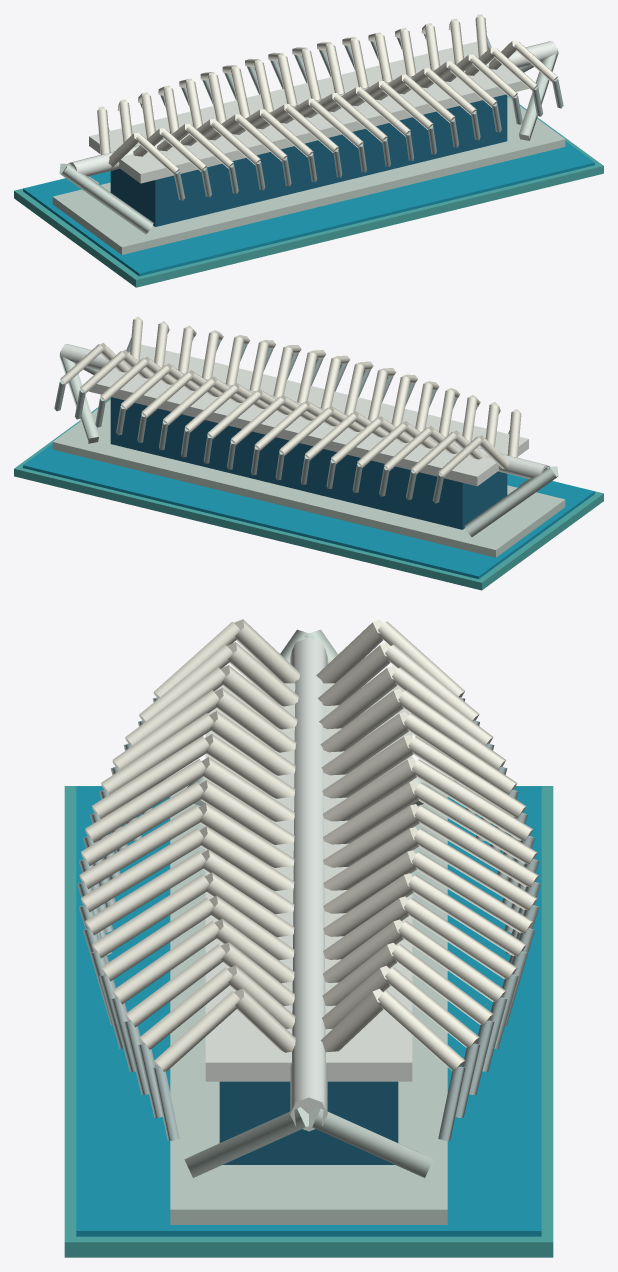
The model's file is museum-of-tomorrow.glb.
3 views of the same model, one above another, from view 1: azimuth 30°, elevation 25°; view 2: azimuth 150°, elevation 25°; view 3: azimuth 270°, elevation 25° (orthographic). The views are drawn at different scales.
Parts seen in each view (by area): view 1: canopy_E7EBDD, glazing_759EA0, water_6EAAAD, pier_D5DCCF, roof_E5E8DC, base_A9BFB3, canopy_CEDACE, support_DDE5D8, spine_E3E9DD; view 2: canopy_E7EBDD, glazing_759EA0, water_6EAAAD, pier_D5DCCF, roof_E5E8DC, base_A9BFB3, canopy_CEDACE, support_DDE5D8, spine_E3E9DD; view 3: canopy_E7EBDD, water_6EAAAD, pier_D5DCCF, base_A9BFB3, roof_E5E8DC, spine_E3E9DD, canopy_CEDACE, glazing_759EA0, support_DDE5D8.
Part boxes in pixels (<box>): canopy_E7EBDD: <box>97,14,557,174</box>; glazing_759EA0: <box>110,94,507,226</box>; water_6EAAAD: <box>23,141,594,276</box>; pier_D5DCCF: <box>52,97,565,254</box>; roof_E5E8DC: <box>89,41,528,183</box>; base_A9BFB3: <box>14,96,603,287</box>; canopy_CEDACE: <box>108,34,563,200</box>; support_DDE5D8: <box>59,48,558,234</box>; spine_E3E9DD: <box>69,41,557,176</box>; canopy_E7EBDD: <box>60,316,521,477</box>; glazing_759EA0: <box>110,397,507,529</box>; water_6EAAAD: <box>23,444,594,578</box>; pier_D5DCCF: <box>52,399,565,557</box>; roof_E5E8DC: <box>89,344,528,486</box>; base_A9BFB3: <box>14,398,603,590</box>; canopy_CEDACE: <box>54,337,509,503</box>; support_DDE5D8: <box>59,351,558,536</box>; spine_E3E9DD: <box>60,344,548,479</box>; canopy_E7EBDD: <box>79,619,538,1071</box>; water_6EAAAD: <box>76,786,541,1236</box>; pier_D5DCCF: <box>170,785,447,1224</box>; base_A9BFB3: <box>64,786,553,1257</box>; roof_E5E8DC: <box>205,683,412,1081</box>; spine_E3E9DD: <box>290,637,327,1131</box>; canopy_CEDACE: <box>77,697,540,1140</box>; glazing_759EA0: <box>219,1081,398,1164</box>; support_DDE5D8: <box>184,629,433,1177</box>.
Size of the model in its own units: 1 by 0.2156 by 0.4251.
